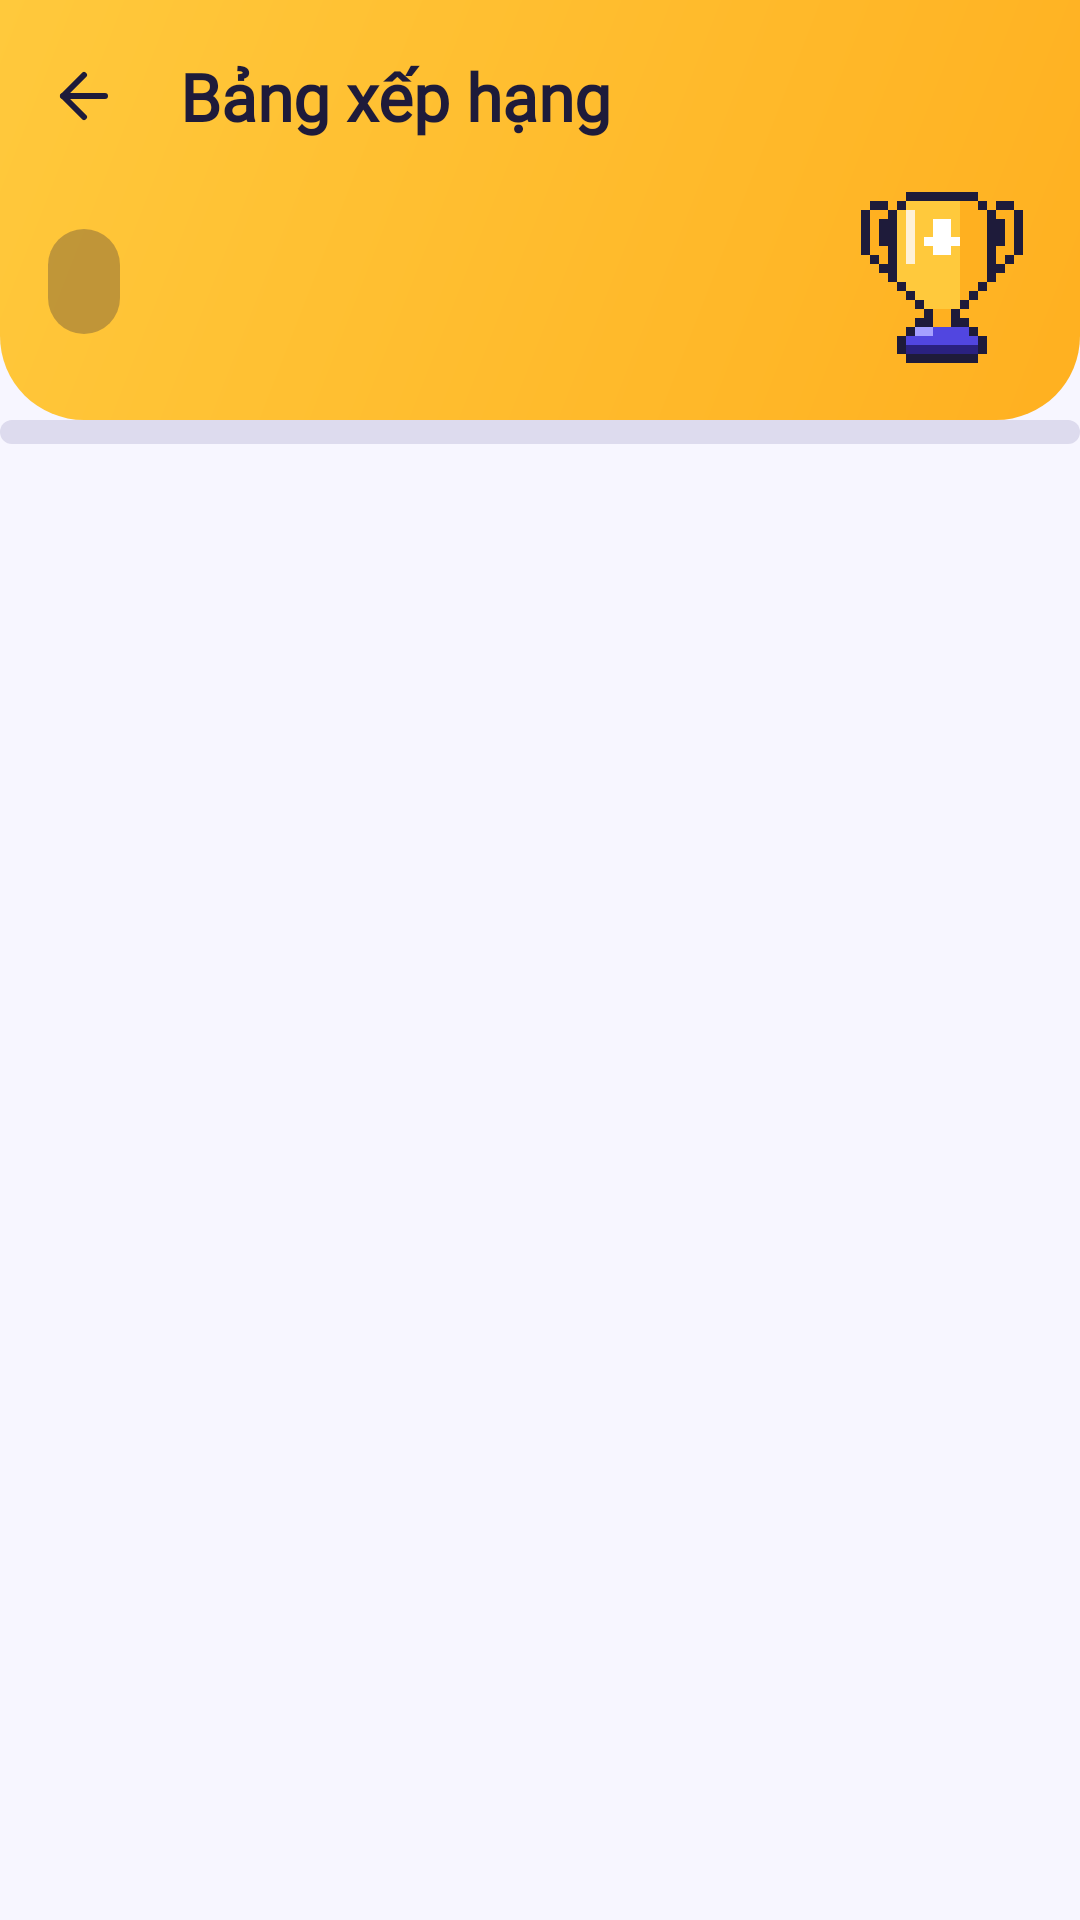

Named icons in this screenshot (1080 × 1920) and their centers, point (x, y):
trophy: point (942, 277)
